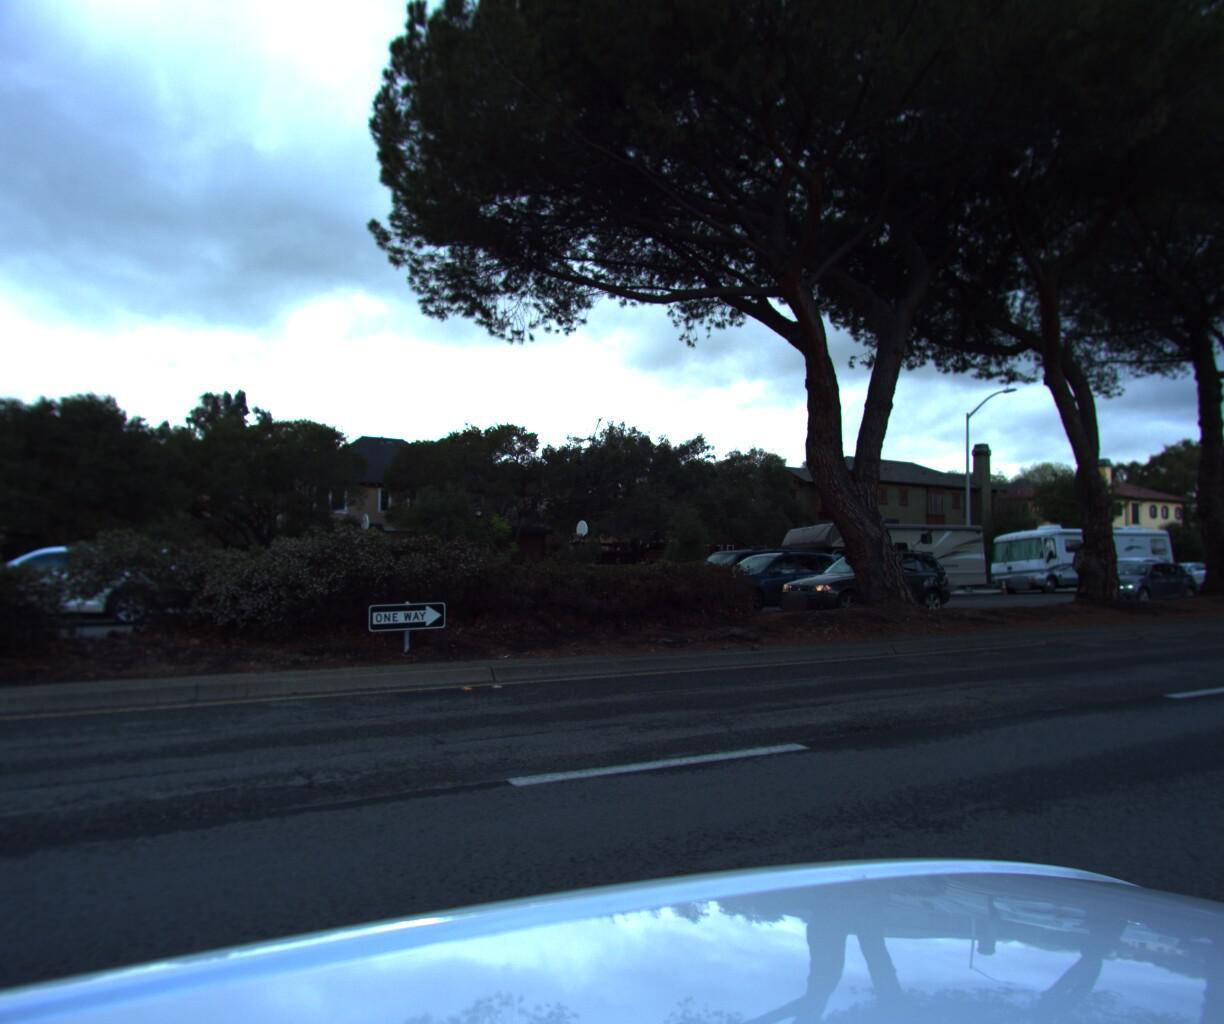car: (771, 545, 951, 618), (675, 554, 844, 612), (696, 543, 840, 607), (1068, 556, 1204, 606), (1136, 557, 1224, 588), (1194, 556, 1224, 587)
other_vehicle: (758, 507, 991, 599), (975, 514, 1176, 592)
